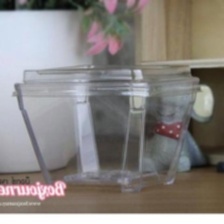glass: (7, 53, 204, 201)
